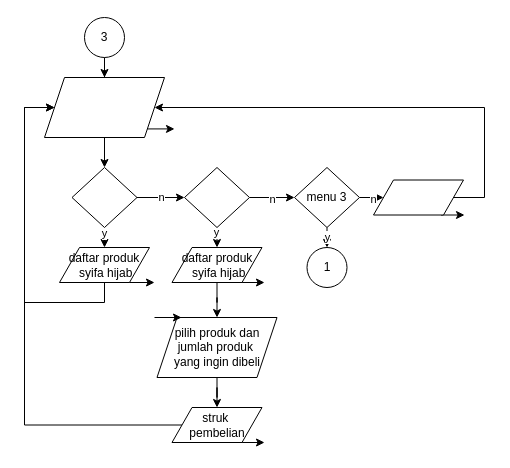
Some shapes in this 510 by 468 pixel diagram are drawn without their labels. Here are the shapes that lost their labels. From the top down, the box of each, then its label:
(44, 76, 164, 138): menu member 1. lihat produk 2. beli produk 3. logout
(71, 166, 137, 228): menu 1
(184, 166, 250, 228): menu 2
(372, 179, 464, 215): pilihan tidak valid
